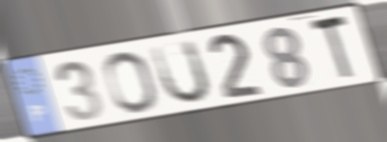2: (209, 31, 264, 100)
3: (55, 60, 103, 122)
8: (262, 24, 311, 91)
O: (101, 49, 160, 115)
T: (307, 11, 355, 83)
U: (148, 37, 213, 107)
